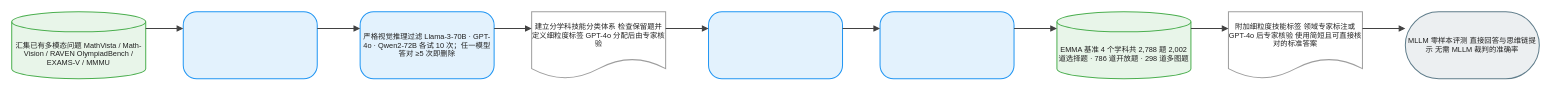
Some shapes in this 1552 by 91 pixel diagram are drawn without their labels. Here are the shapes that lost their labels. From the top down, the centre of each, then its label:
the point at 249,45: 将视觉内容转为文本线索 用 GPT-4o 描述每张候选图像 原题文本与图像描述配对
the point at 775,45: 人工搜集 / 编写对齐任务 物理：在线来源 · 化学：RDKit + 博士生 编程：高级数据可视化生成
the point at 946,45: 合并并核验双轨数据 992 道严格过滤的已有问题 1,796 道新构建问题
